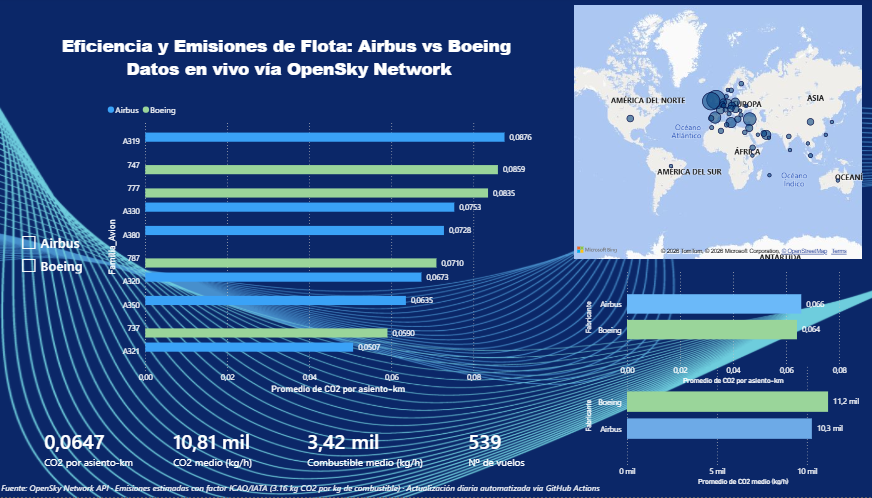

What the dashboard file says about the page in this screenshot:
{"tool":"powerbi","page":{"name":"Airbus vs Boeing","canvas":[1400,800],"ordinal":0},"visuals":[{"type":"cardVisual","fields":{"Data":["Avg(flight_efficiency.estimated_co2_kg_h)"]},"box":[251.2,652.8,214.4,136],"z":0},{"type":"cardVisual","fields":{"Data":["Avg(flight_efficiency.estimated_fuel_burn_kg_h)"]},"box":[465.6,651.2,276.8,140.8],"z":1000},{"type":"cardVisual","fields":{"Data":["CountNonNull(flight_efficiency.icao24)"]},"box":[723.2,659.2,235.2,123.2],"z":2000},{"type":"clusteredBarChart","fields":{"Category":["flight_efficiency.manufacturer"],"Y":["Avg(flight_efficiency.estimated_co2_kg_h)"]},"box":[934.4,579.2,465.6,206.4],"z":3000},{"type":"clusteredBarChart","fields":{"Category":["flight_efficiency.Familia_Avion"],"Y":["Avg(flight_efficiency.co2_per_seat_km)"],"Series":["flight_efficiency.manufacturer"]},"box":[169.6,160,700.8,480],"z":4000},{"type":"map","fields":{"Category":["flight_efficiency.origin_country"],"Size":["CountNonNull(flight_efficiency.icao24)"]},"box":[916.2,8.8,471.2,416.2],"z":5000},{"type":"slicer","fields":{"Values":["flight_efficiency.manufacturer"]},"box":[25,370,164,108],"z":6000},{"type":"textbox","box":[25.6,54.4,880,150.4],"z":7000},{"type":"textbox","box":[0,771.2,1297.6,28.8],"z":8000},{"type":"cardVisual","fields":{"Data":["Avg(flight_efficiency.co2_per_seat_km)"]},"box":[44.8,652.8,238.4,136],"z":9000},{"type":"clusteredBarChart","fields":{"Category":["flight_efficiency.manufacturer"],"Y":["Avg(flight_efficiency.co2_per_seat_km)"]},"box":[935,425,428.8,198.8],"z":10000}]}

Visuals, with their boxes in screenshot pixels (x1, y1, x2, y2), scaled from the page's 1400x800 canvas onto the 872x498 screenshot:
cardVisual - Avg(flight_efficiency.estimated_co2_kg_h): <box>156,406,290,491</box>
cardVisual - Avg(flight_efficiency.estimated_fuel_burn_kg_h): <box>290,405,462,493</box>
cardVisual - CountNonNull(flight_efficiency.icao24): <box>450,410,597,487</box>
clusteredBarChart - flight_efficiency.manufacturer x Avg(flight_efficiency.estimated_co2_kg_h): <box>582,361,871,489</box>
clusteredBarChart - flight_efficiency.Familia_Avion x Avg(flight_efficiency.co2_per_seat_km): <box>106,100,542,398</box>
map - flight_efficiency.origin_country x CountNonNull(flight_efficiency.icao24): <box>571,5,864,265</box>
slicer - flight_efficiency.manufacturer: <box>16,230,118,298</box>
textbox: <box>16,34,564,127</box>
textbox: <box>0,480,808,497</box>
cardVisual - Avg(flight_efficiency.co2_per_seat_km): <box>28,406,176,491</box>
clusteredBarChart - flight_efficiency.manufacturer x Avg(flight_efficiency.co2_per_seat_km): <box>582,265,849,388</box>
